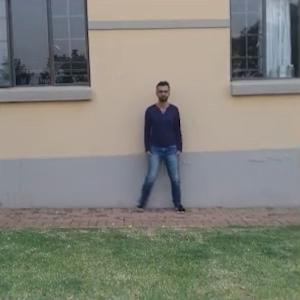follow: (142, 79, 182, 215)
